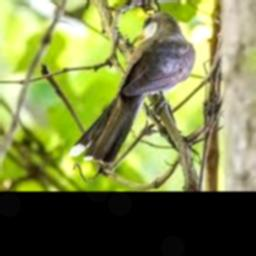Cuckoo: (67, 11, 196, 166)
